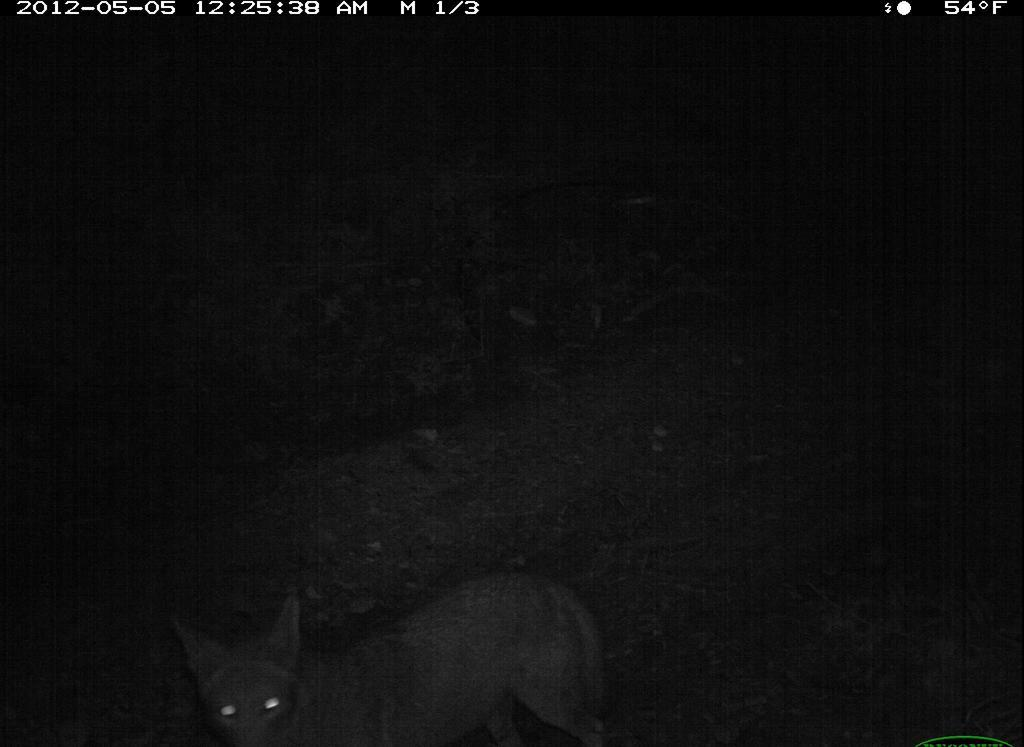coyote: (161, 564, 620, 744)
